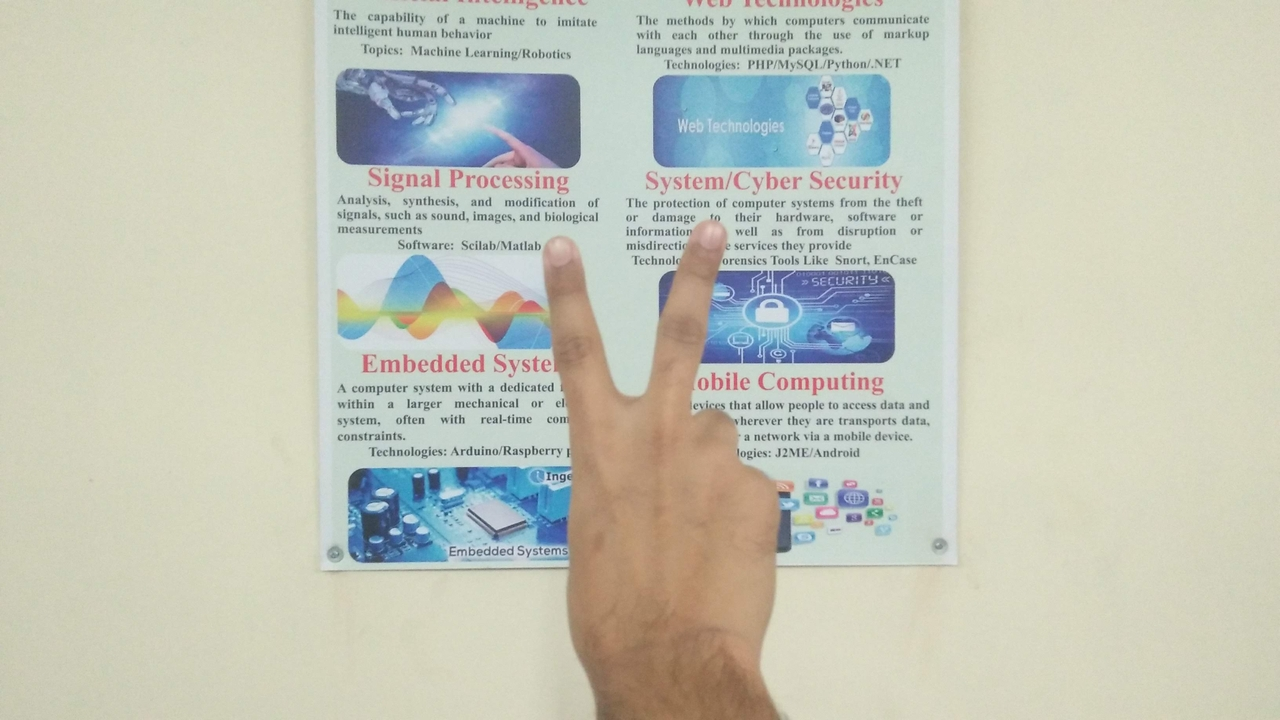fingertip: (532, 228, 588, 280), (682, 206, 734, 260)
